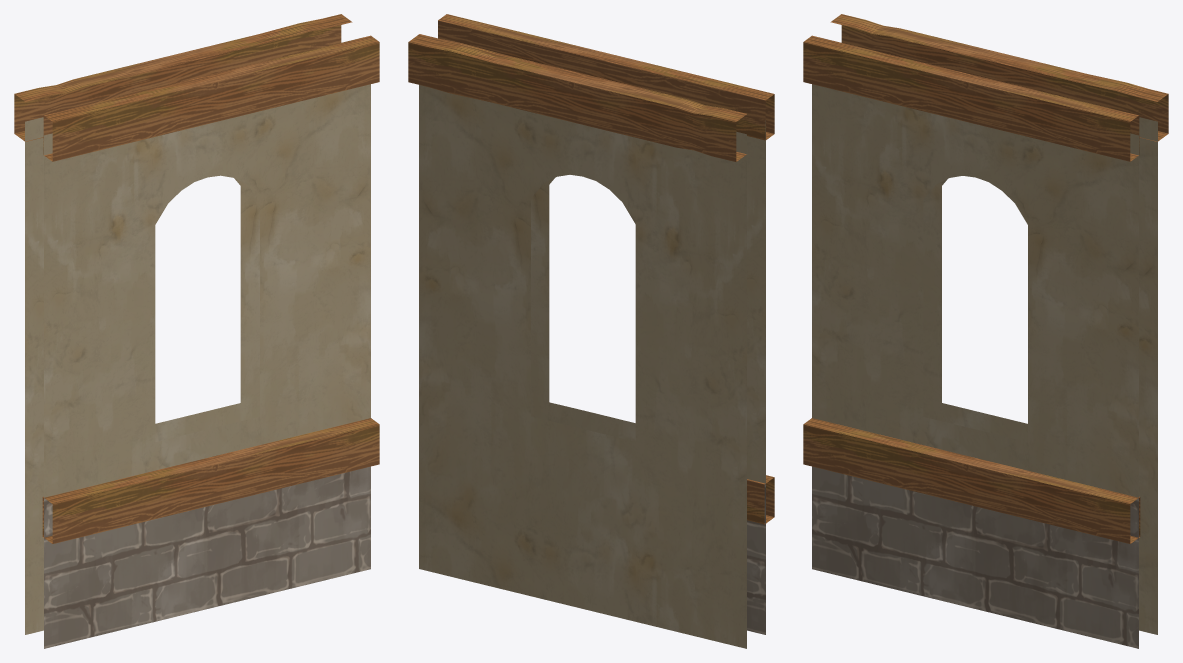
File: Wall_Plaster_Window_Thin_Round.glb
The picture shows the model from 3 angles, left to right: view 1: azimuth 30°, elevation 25°; view 2: azimuth 150°, elevation 25°; view 3: azimuth 330°, elevation 25°; orthographic projection.
Visible parts, largest first — view 1: Wall_Plaster_Window_Thin_Round; view 2: Wall_Plaster_Window_Thin_Round; view 3: Wall_Plaster_Window_Thin_Round.
Boxes of the visible parts, box(x1,y1,x2,y2) form: Wall_Plaster_Window_Thin_Round: box(14, 14, 379, 648); Wall_Plaster_Window_Thin_Round: box(408, 14, 774, 648); Wall_Plaster_Window_Thin_Round: box(803, 14, 1168, 648).
Size of the model in its own units: 2 by 3.12 by 0.4065.
Materials: 3 (3 with a texture image).
